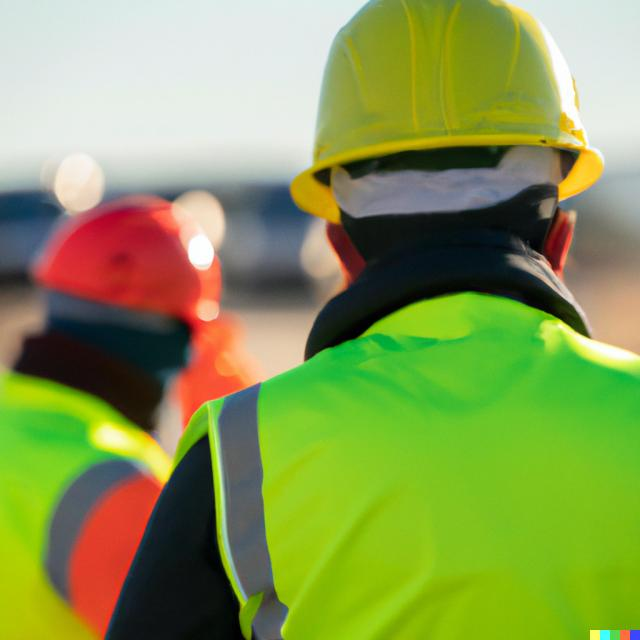Reflective-Jacket: (182, 284, 640, 640), (3, 368, 173, 638)
Safety-Helmet: (288, 2, 613, 212), (31, 190, 231, 331)
